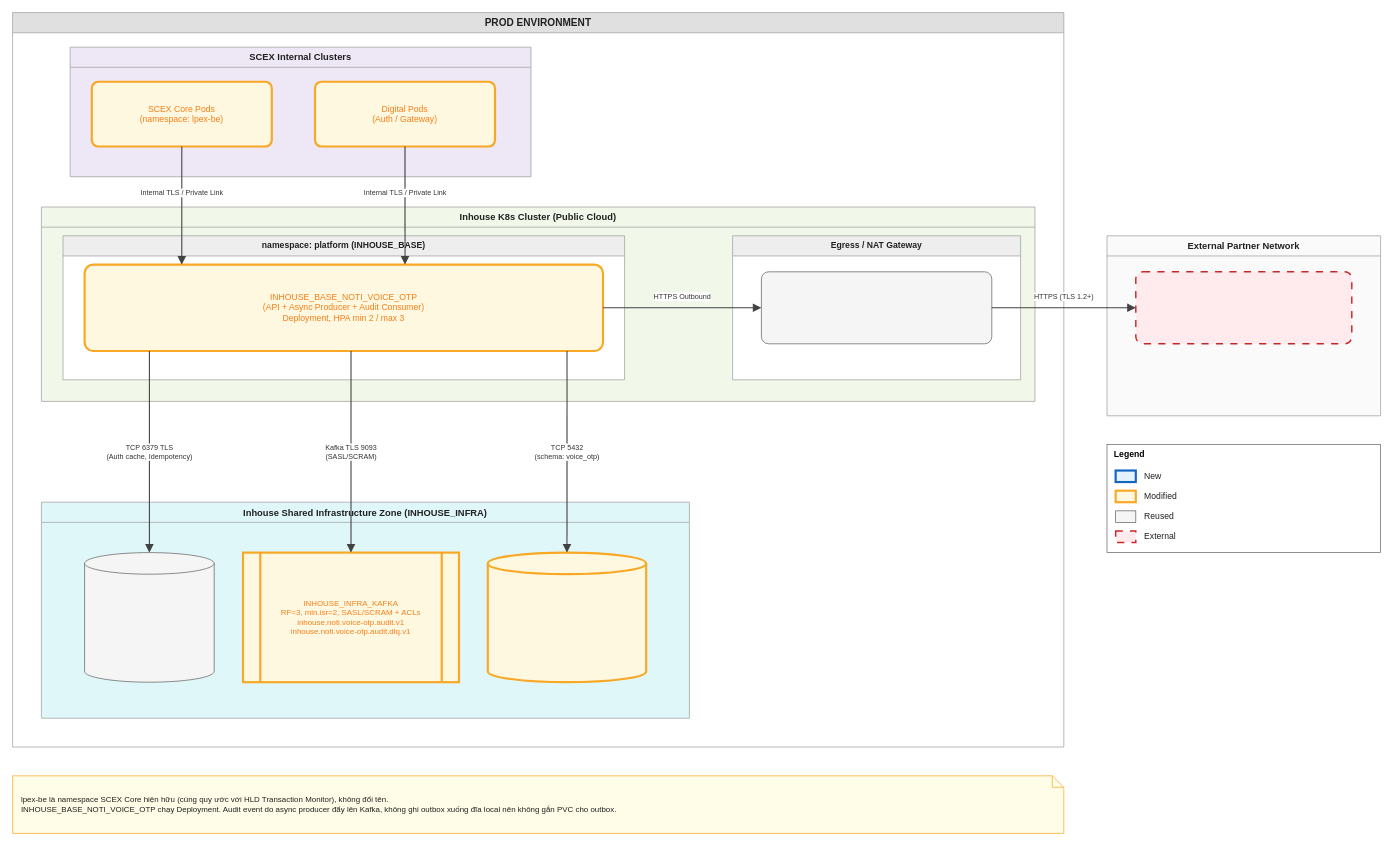
This 1393x846 diagram has some shape labels left out. Each missing label, with the centre of its shape:
INHOUSE_INFRA_POSTGRESQL Primary + Standby schema: voice_otp: point 566,617
INHOUSE_INFRA_REDIS Redis Cluster / Sentinel: point 149,617
Static Egress NAT IP (Whitelisted by Vendor): point 876,307
Voice OTP Vendor HTTPS Endpoint: point 1243,307
